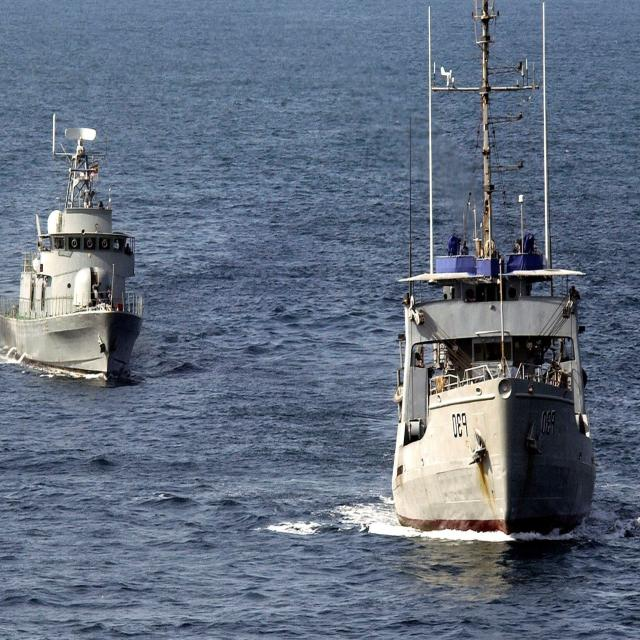navalvessels: (377, 0, 592, 535), (0, 106, 151, 396)
